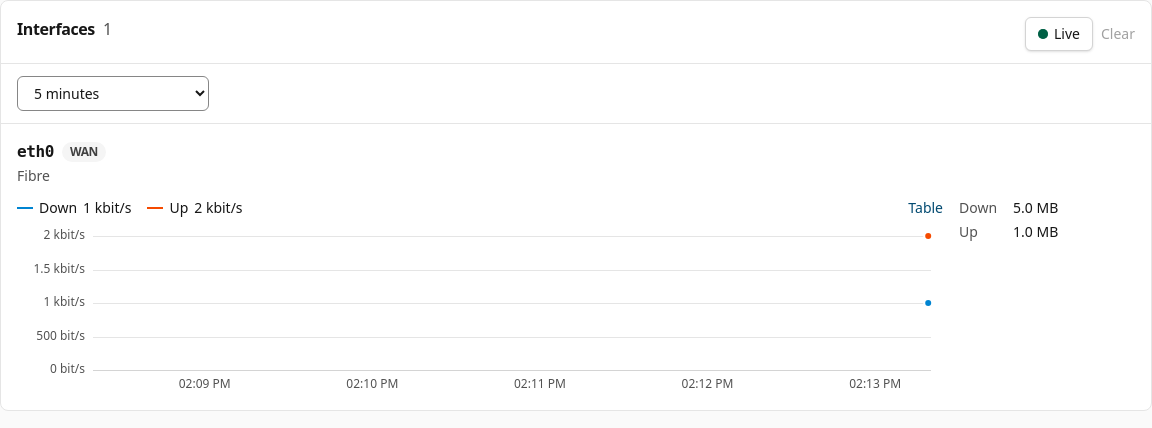
InterfacesTab › holds the seconds while Live is off
The image size is (1152, 428).
Click the button "Live" at (1059,34), box [1025,17,1093,51]
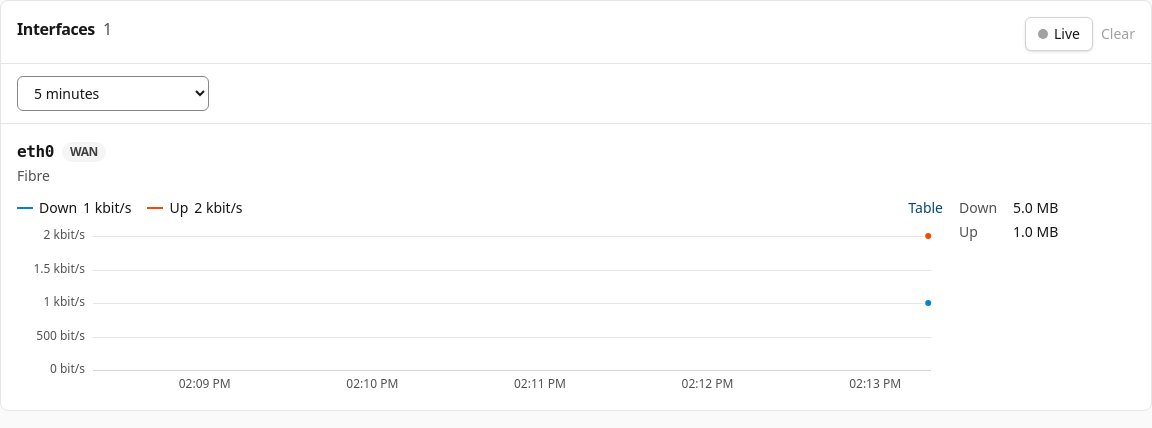
Expected: the text "Down 8 Mbit/s" is not shown
Click the button "Live" at (1059,34), box [1025,17,1093,51]
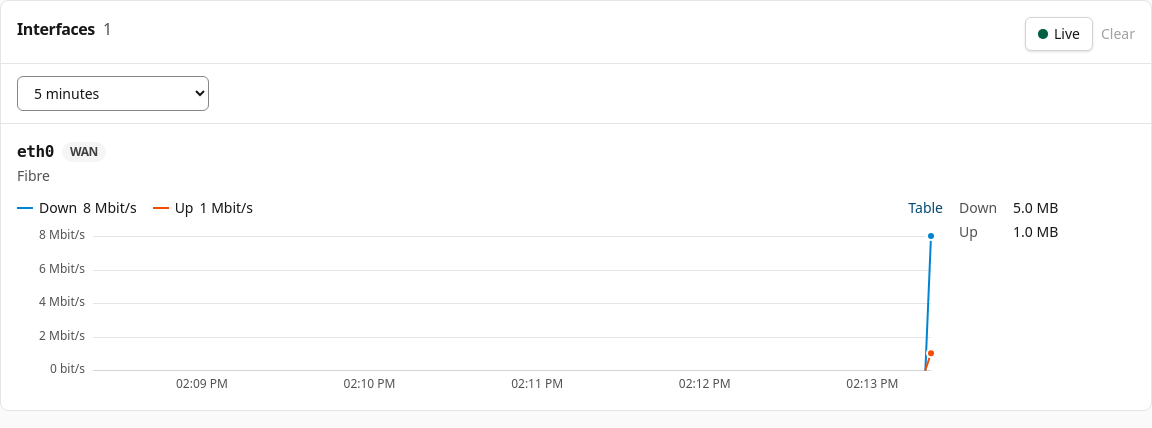
Expected: the text "Down 8 Mbit/s" is shown, [17,198,137,218]
